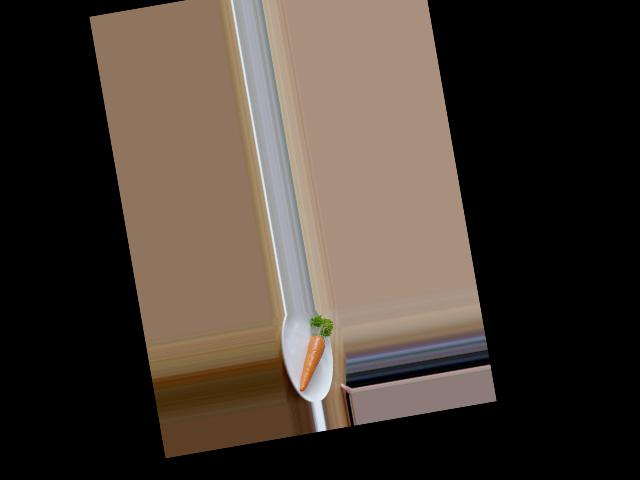carrot: (289, 328, 335, 394)
